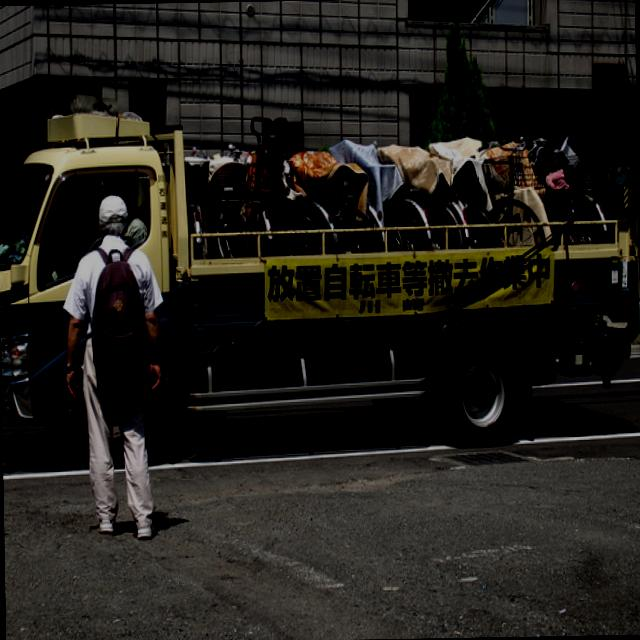Vehicle: (0, 98, 557, 471)
